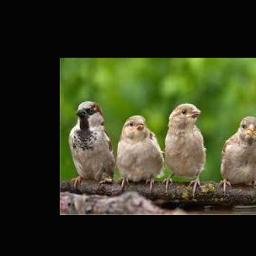Sparrow: (68, 100, 115, 188), (163, 103, 205, 195), (116, 115, 164, 188), (219, 116, 256, 195)
